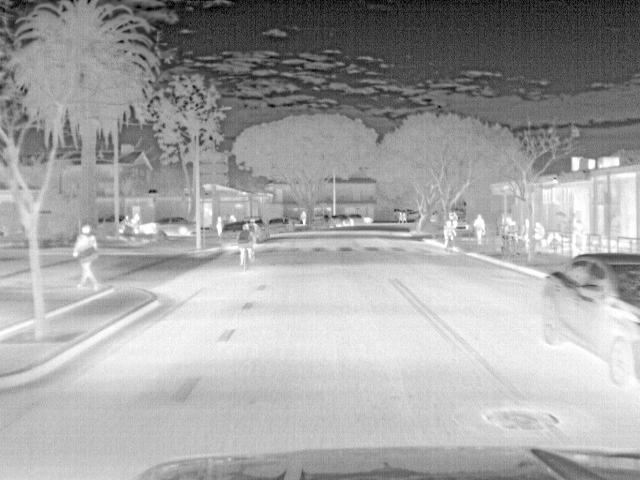car: (533, 253, 640, 384), (139, 213, 194, 239), (222, 222, 244, 248), (265, 216, 296, 234), (349, 211, 375, 226)
person: (71, 224, 100, 290), (236, 220, 256, 264), (441, 220, 460, 250), (472, 213, 487, 247), (531, 220, 547, 241), (297, 208, 309, 226)
